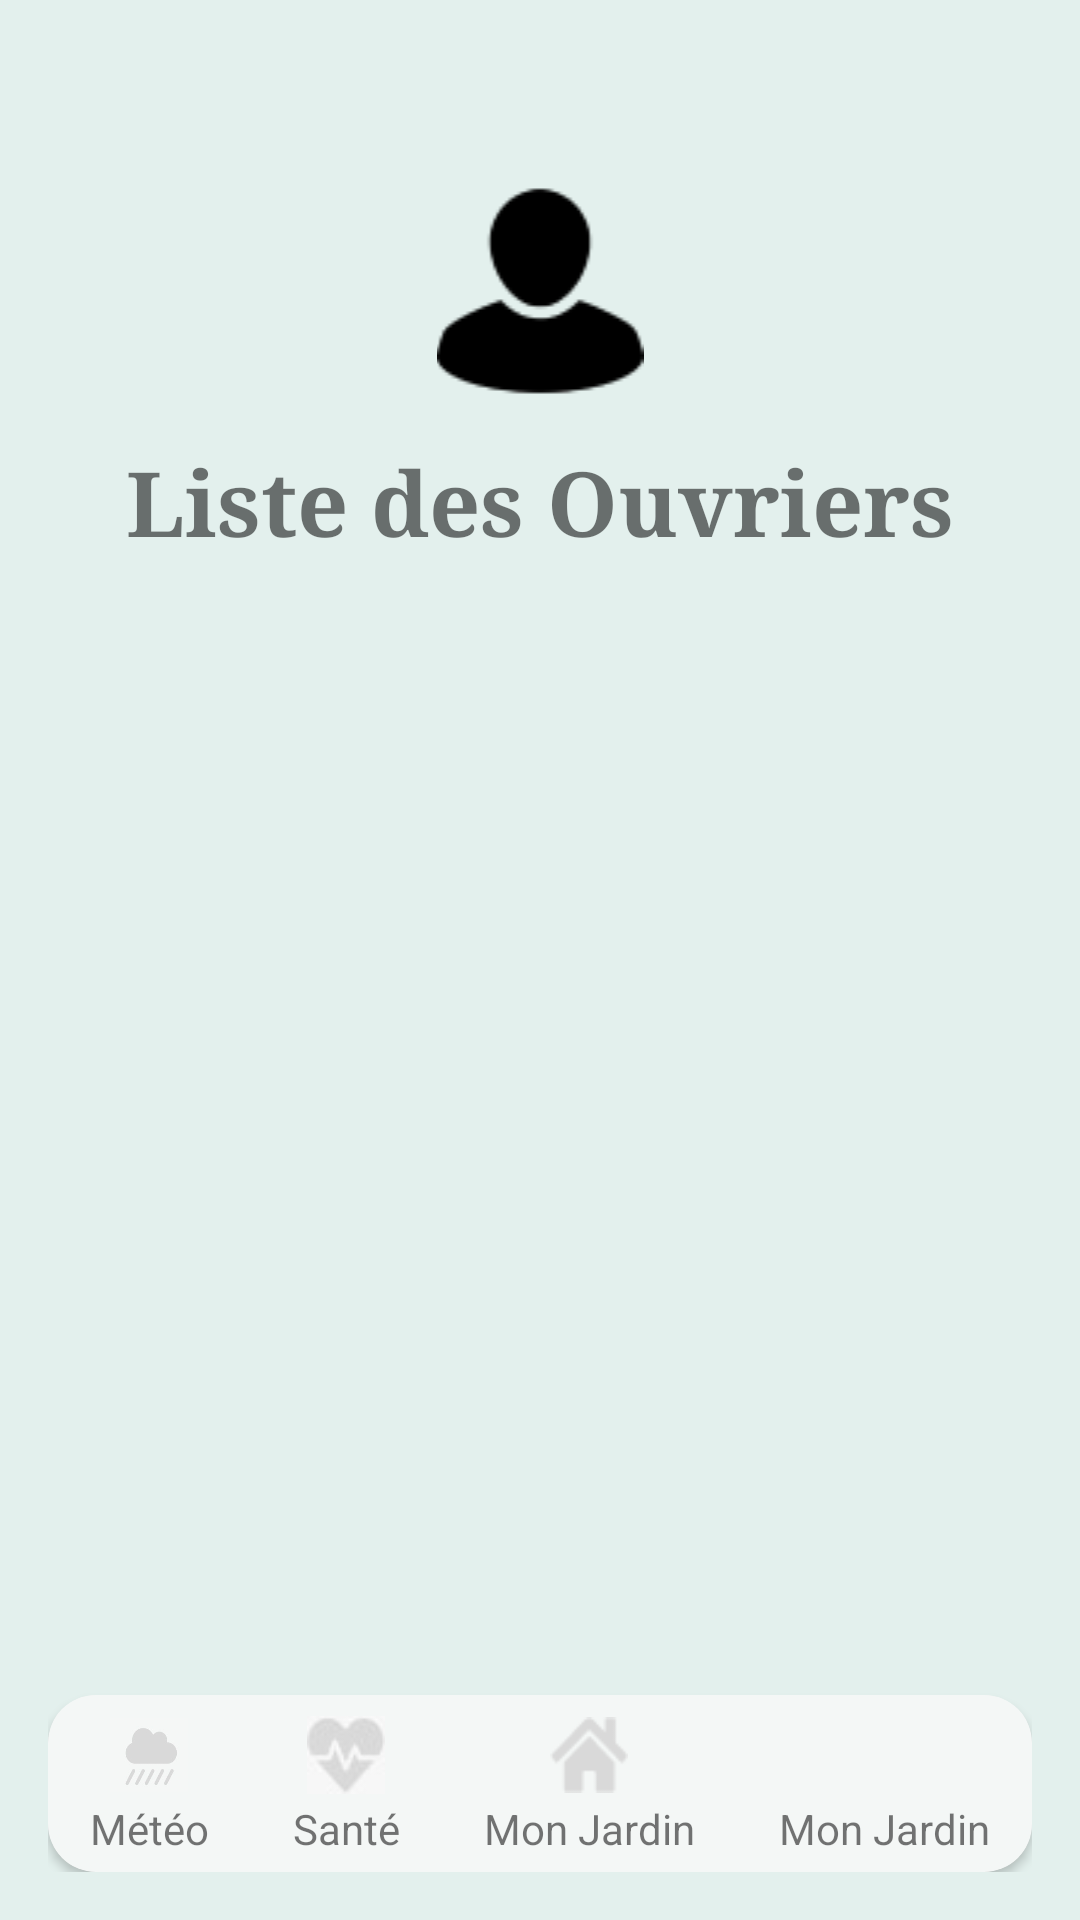

Named icons in this screenshot (1080w x 1920h) and their centers, point (x, y):
workericon: point (540, 291)
